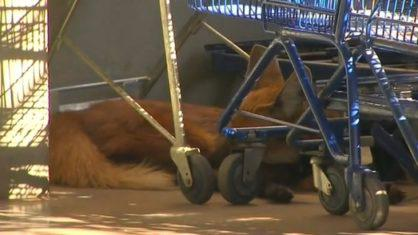LoboGuara: (55, 44, 317, 208)
